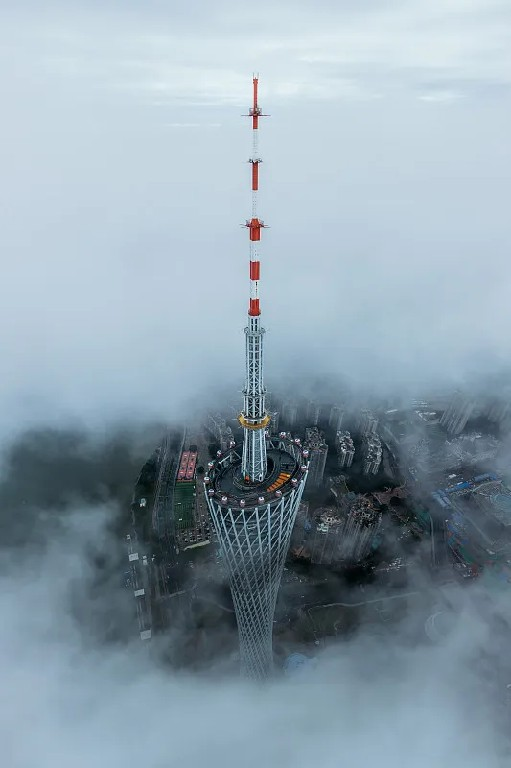Canton: (200, 80, 310, 701)
